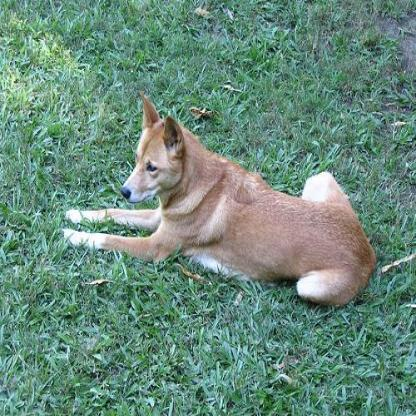dingo: (60, 90, 376, 309)
